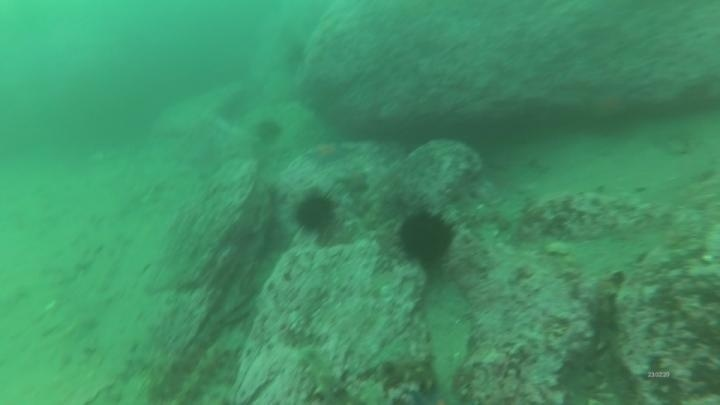echinus: (394, 206, 458, 269), (292, 189, 338, 235), (252, 116, 285, 147)
holothurian: (154, 327, 247, 405), (295, 342, 350, 405), (375, 350, 443, 398)
starfish: (586, 82, 635, 122), (406, 380, 468, 404), (304, 138, 350, 168), (336, 166, 373, 197)
